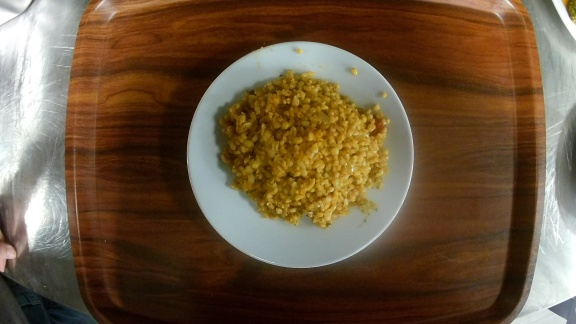bulgur: (186, 41, 415, 268)
